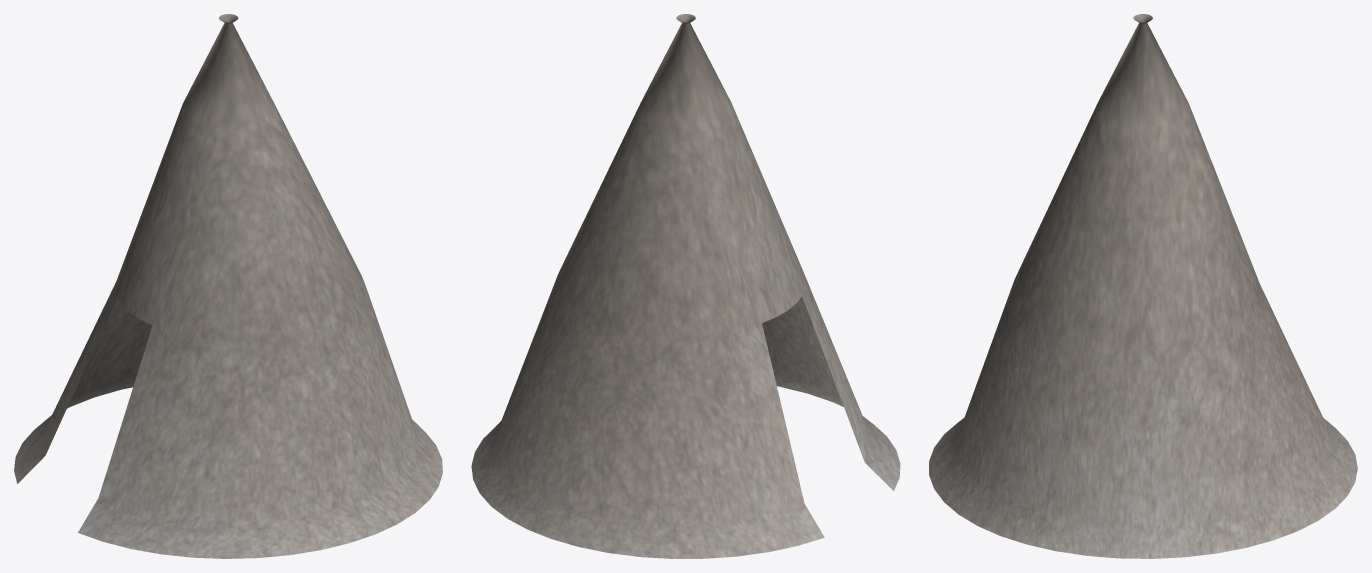
File: Tipee.fbx
The picture shows the model from 3 angles, left to right: view 1: azimuth 30°, elevation 25°; view 2: azimuth 150°, elevation 25°; view 3: azimuth 270°, elevation 25°; orthographic projection.
Parts seen in each view (by area): view 1: Tipee_LOD0; view 2: Tipee_LOD0; view 3: Tipee_LOD0.
Boxes of the visible parts, x1,y1,x2,y2 form: Tipee_LOD0: (14, 14, 442, 558); Tipee_LOD0: (471, 14, 900, 558); Tipee_LOD0: (929, 14, 1357, 558).
Size of what is drawn, in the model's own units: 361 by 462 by 367.
